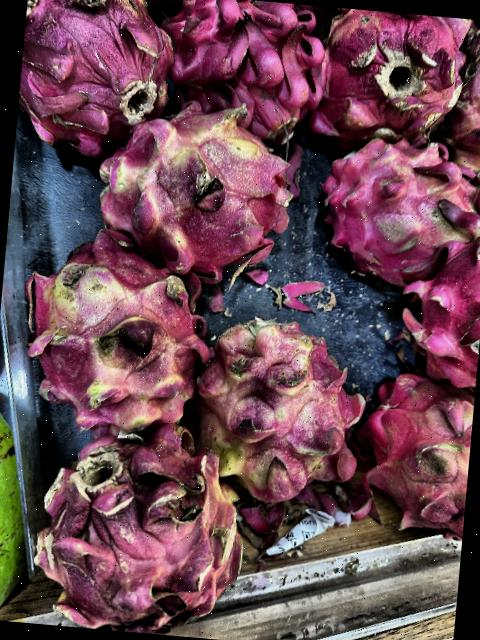buah-naga-belum-matang: (20, 418, 265, 640), (4, 236, 222, 434), (85, 101, 301, 284), (192, 308, 360, 508), (319, 130, 480, 269), (356, 366, 476, 534), (451, 27, 480, 163)
buah-naga-matang: (148, 0, 327, 147), (16, 0, 176, 132), (317, 7, 472, 142), (403, 226, 480, 388)
